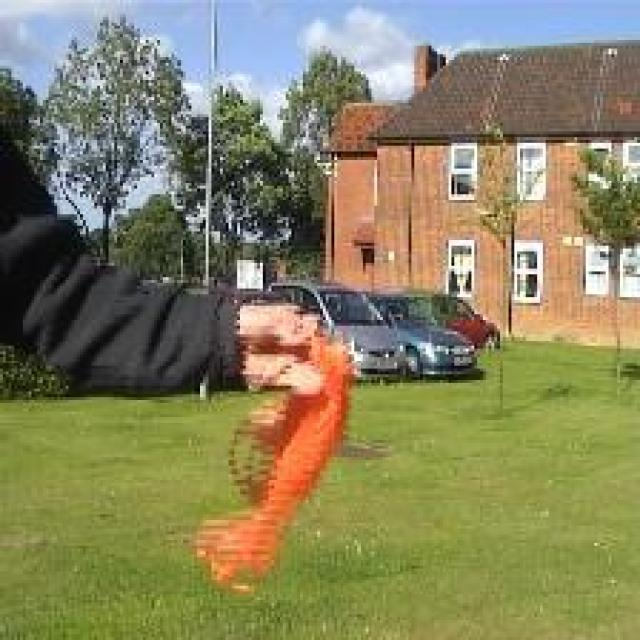other: (204, 333, 347, 582)
